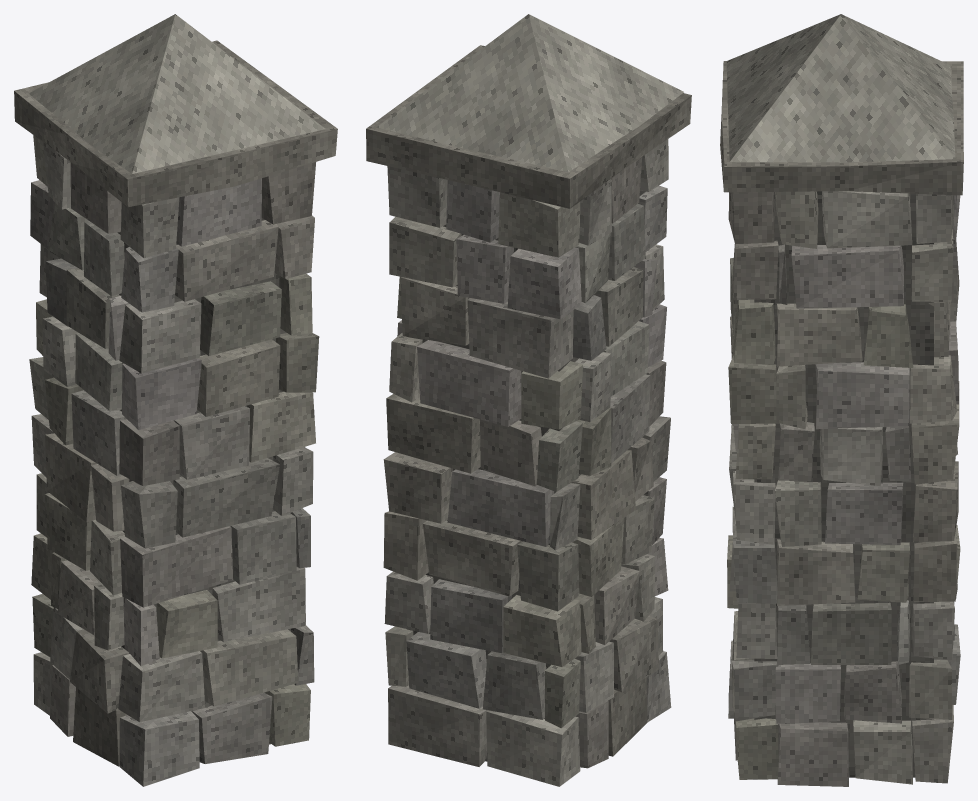
Rendered from torre_pedra.glb.
The picture shows the model from 3 angles, left to right: view 1: azimuth 30°, elevation 25°; view 2: azimuth 150°, elevation 25°; view 3: azimuth 270°, elevation 25°; orthographic projection.
Parts seen in each view (by area): view 1: torre_pedra_pedra; view 2: torre_pedra_pedra; view 3: torre_pedra_pedra.
Part boxes in pixels (bbox=[...]): torre_pedra_pedra: bbox=[14, 14, 337, 786]; torre_pedra_pedra: bbox=[366, 14, 691, 786]; torre_pedra_pedra: bbox=[720, 14, 963, 786].
Size of the model in its own units: 1.66 by 5.35 by 1.63.
Materials: 1 (1 with a texture image).
